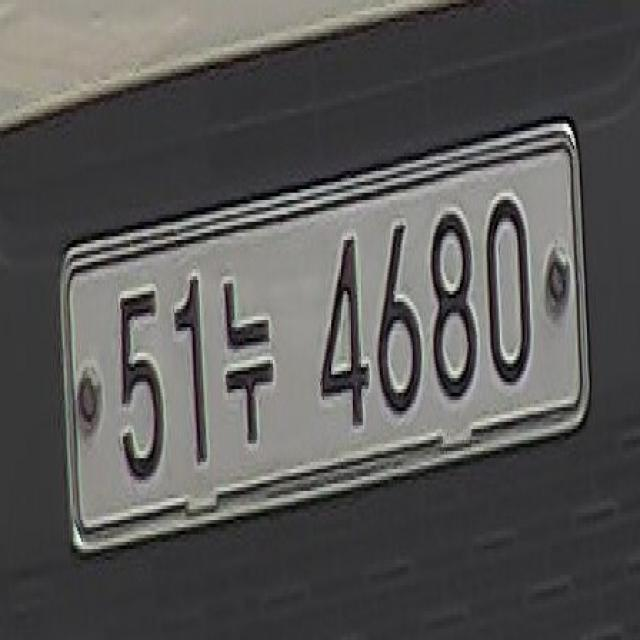0: (486, 188, 534, 384)
1: (175, 266, 212, 486)
4: (318, 231, 369, 434)
5: (114, 280, 166, 486)
6: (376, 219, 424, 428)
8: (428, 206, 480, 406)
license_plate: (51, 81, 599, 603)
nu: (222, 274, 279, 458)
